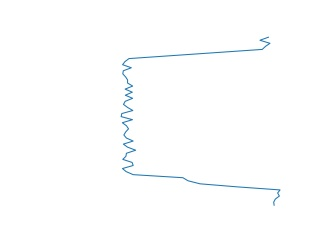distributaryChannelFill: (115, 35, 286, 207)
